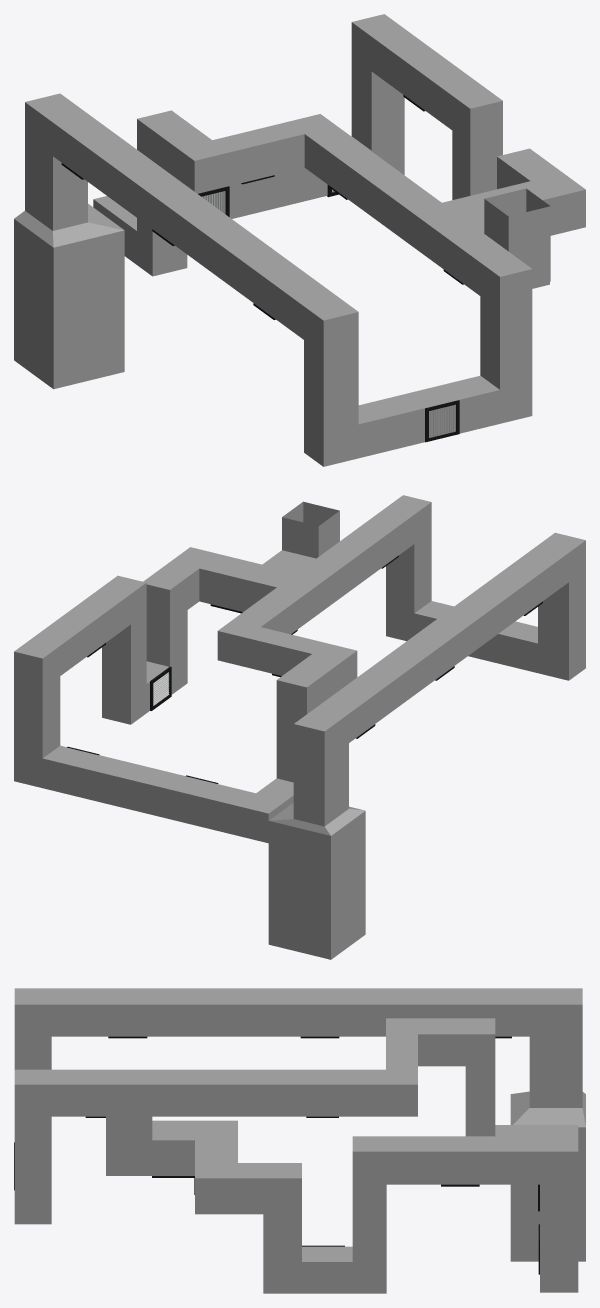
File: VENT_SYSTEM_W_VENTS (1).fbx
The picture shows the model from 3 angles, top to bottom: view 1: azimuth 30°, elevation 25°; view 2: azimuth 150°, elevation 25°; view 3: azimuth 270°, elevation 25°; orthographic projection. The views are drawn at different scales.
Parts seen in each view (by area): view 1: pCube29; view 2: pCube29; view 3: pCube29.
Part boxes in pixels (bbox=[...]): pCube29: bbox=[14, 14, 585, 466]; pCube29: bbox=[14, 495, 585, 959]; pCube29: bbox=[14, 988, 585, 1293].
Size of the model in its own units: 479 by 336 by 681.
2 materials, 1 textured.
